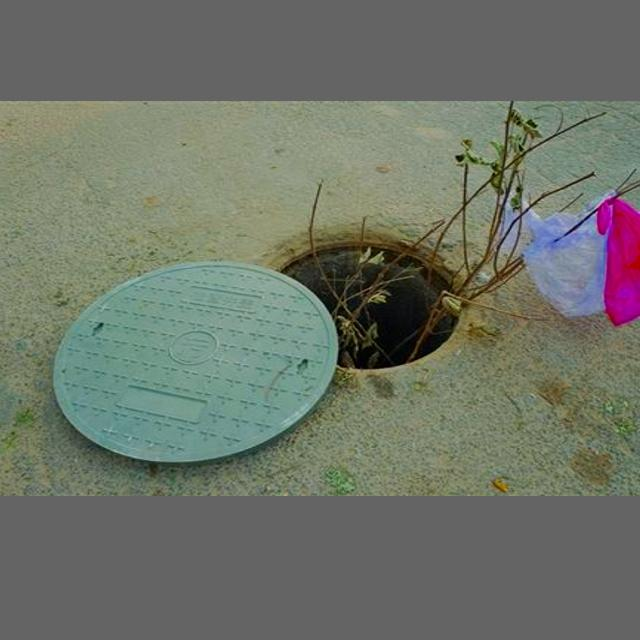uncovered: (46, 217, 514, 462)
